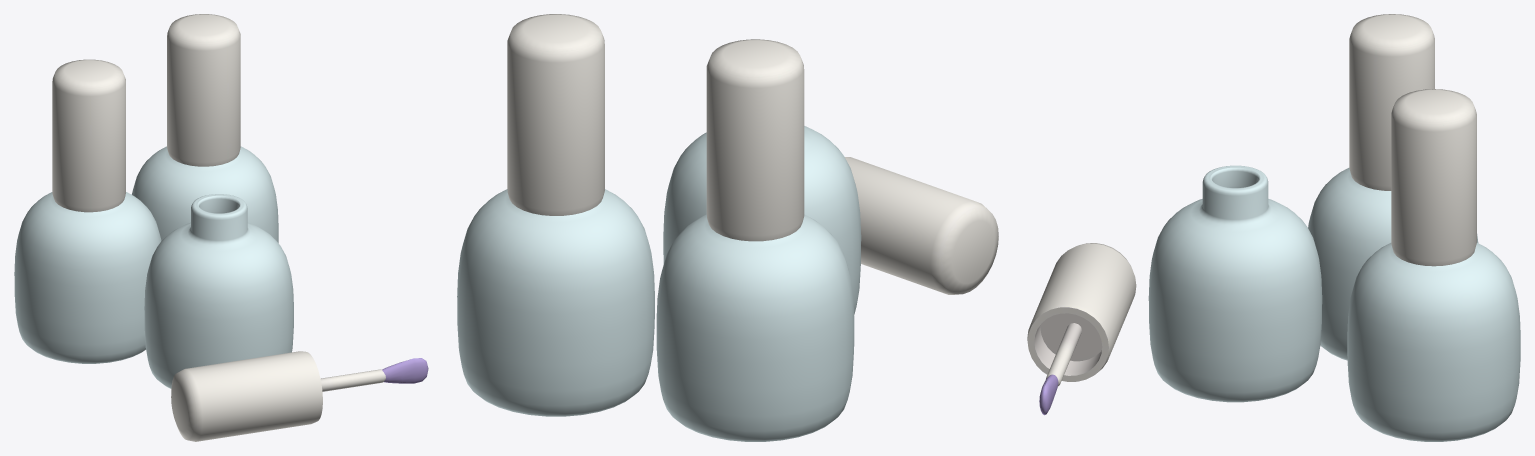
File: esmaltes.glb
The picture shows the model from 3 angles, left to right: view 1: azimuth 30°, elevation 25°; view 2: azimuth 150°, elevation 25°; view 3: azimuth 270°, elevation 25°; orthographic projection. The views are drawn at different scales.
Parts seen in each view (by area): view 1: nail-polish_cap_a; view 2: nail-polish_cap_a; view 3: nail-polish_cap_a.
Boxes of the visible parts, bbox=[...] form: nail-polish_cap_a: bbox=[14, 14, 428, 441]; nail-polish_cap_a: bbox=[457, 14, 998, 441]; nail-polish_cap_a: bbox=[1027, 14, 1520, 441].
Bounding box in the file's own units: 0.067 × 0.0655 × 0.0945.
Materials: 7 (3 with a texture image).
